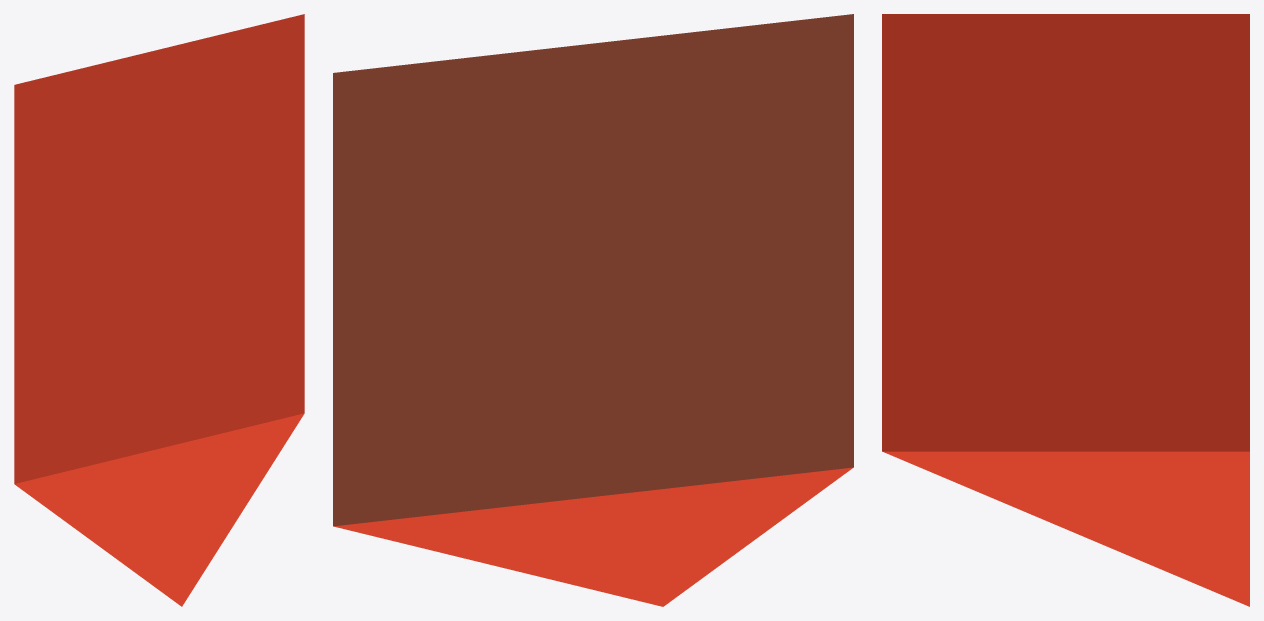
File: r3c3_border_red.gltf
3 renders of one model, left to right at view 1: azimuth 30°, elevation 25°; view 2: azimuth 150°, elevation 25°; view 3: azimuth 270°, elevation 25°, orthographic. The views are drawn at different scales.
Parts seen in each view (by area): view 1: r3c3_border_red; view 2: r3c3_border_red; view 3: r3c3_border_red.
Part boxes in pixels (<box>): r3c3_border_red: <box>14,14,304,606</box>; r3c3_border_red: <box>333,14,853,606</box>; r3c3_border_red: <box>882,14,1249,606</box>.
Bounding box in the file's own units: 1.6 × 2.1 × 1.6.
Materials: 1 (1 with a texture image).
